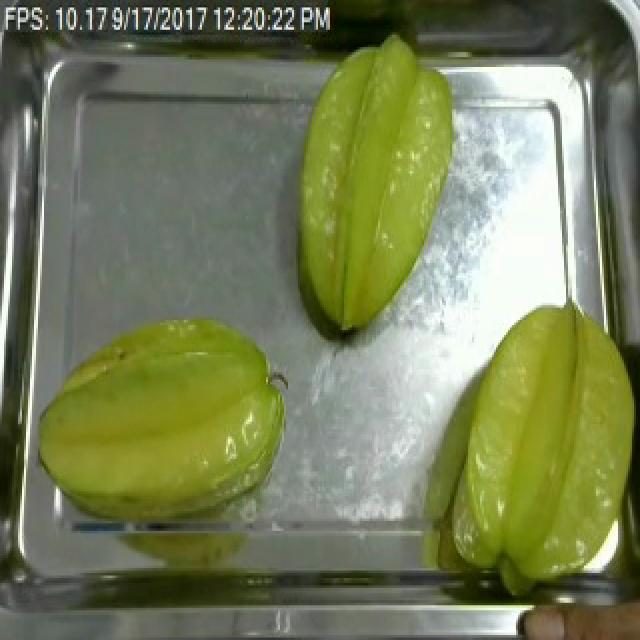fruit: (26, 303, 300, 543), (440, 298, 640, 605), (280, 27, 462, 345)
